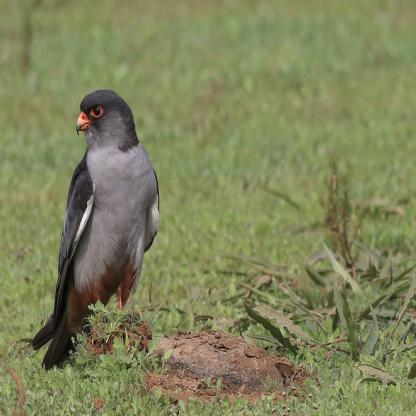Burung: (32, 90, 162, 367)
